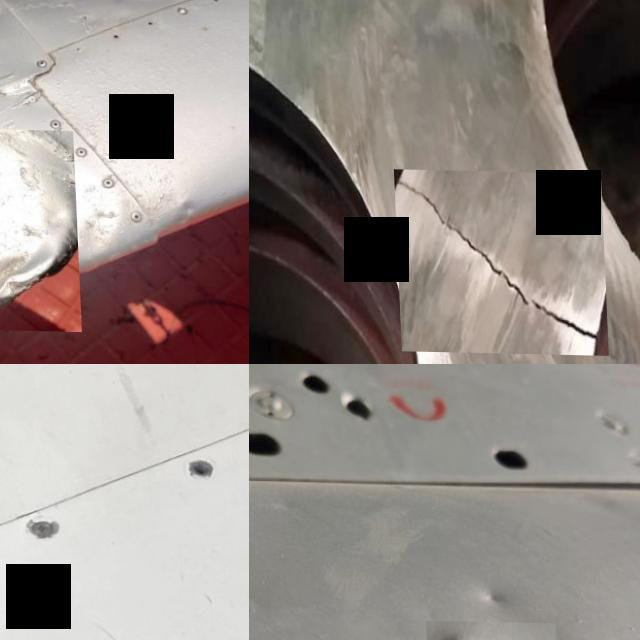Crack: (392, 169, 603, 354)
Dent: (0, 125, 77, 330), (422, 619, 553, 640), (467, 574, 515, 617)
Missing_Fastener: (183, 454, 215, 480)
